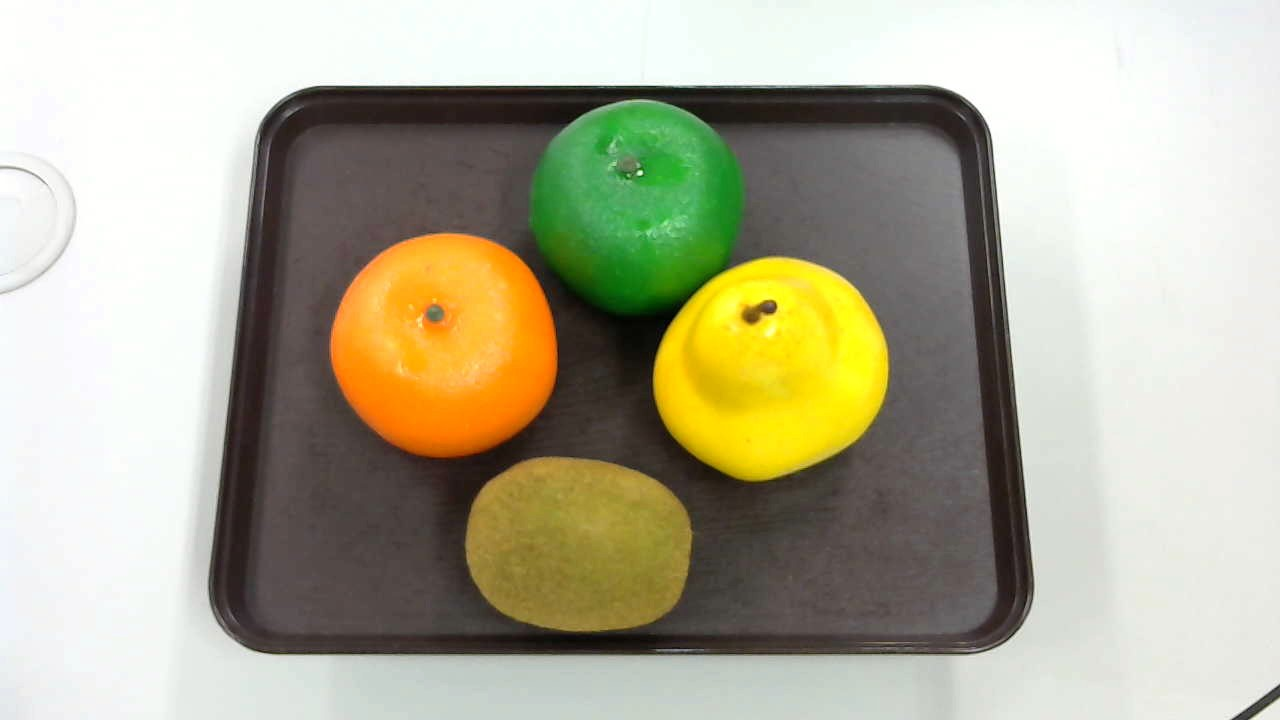green orange: (528, 97, 744, 311)
kiwi fruit: (466, 458, 695, 630)
orange: (333, 232, 554, 458)
yellow pear: (651, 256, 889, 483)
